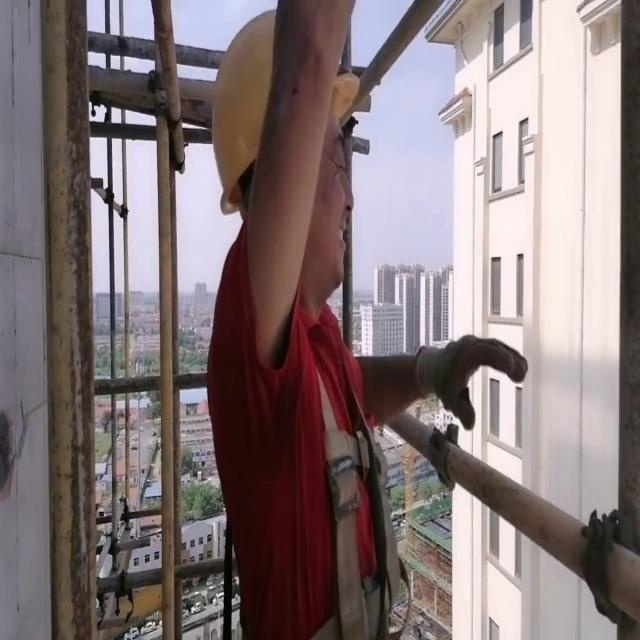Arnes_seguridad: (247, 298, 421, 639)
